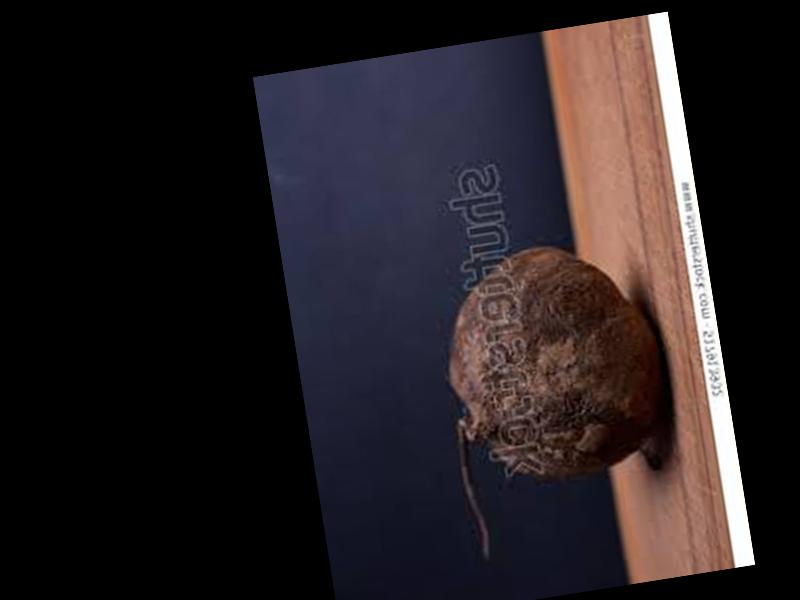Beet: (427, 232, 686, 564)
